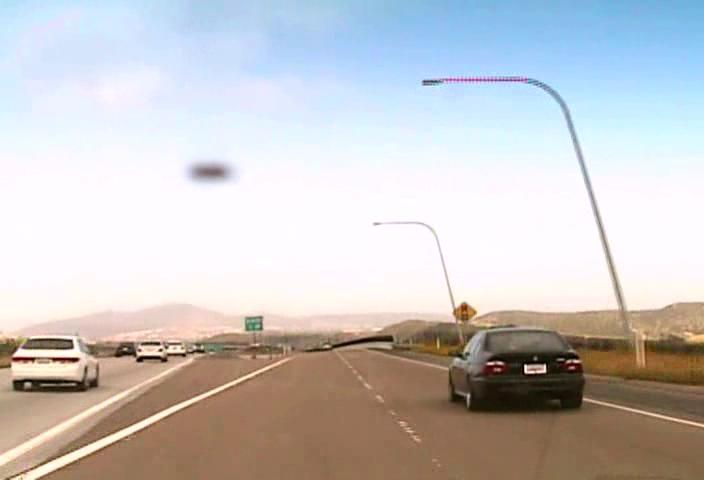signalAhead: (451, 301, 477, 326)
